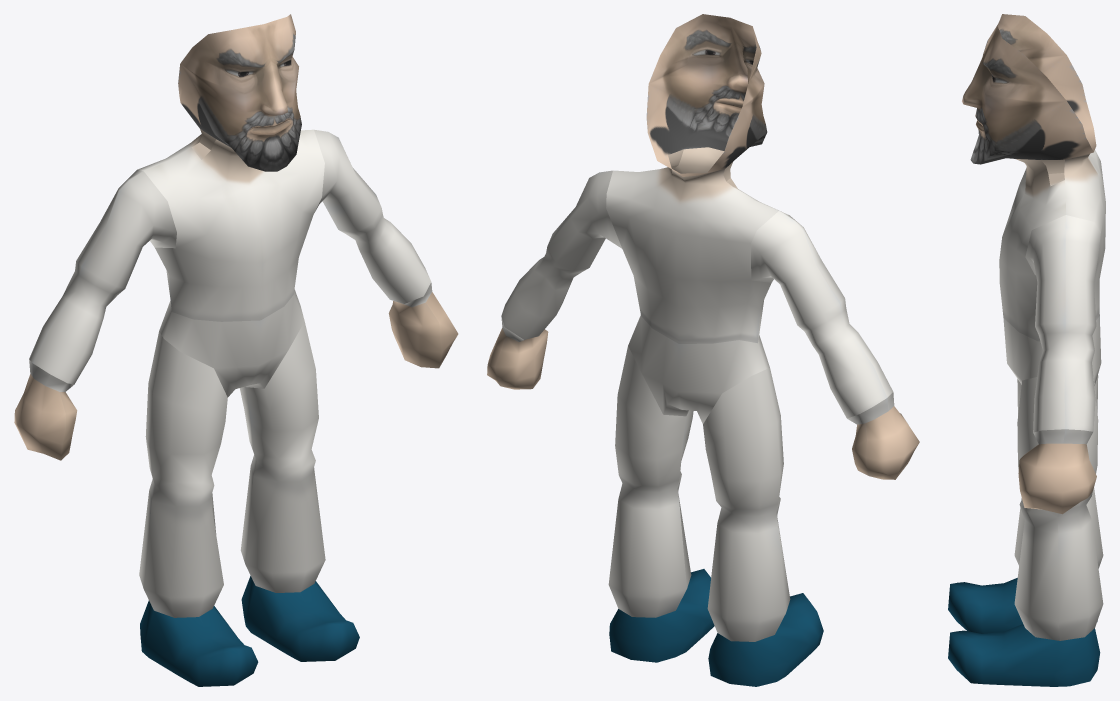
File: General_modelling.FBX
The picture shows the model from 3 angles, left to right: view 1: azimuth 30°, elevation 25°; view 2: azimuth 150°, elevation 25°; view 3: azimuth 270°, elevation 25°; orthographic projection. The views are drawn at different scales.
Visible parts, largest first — view 1: Box002; view 2: Box002; view 3: Box002.
Boxes of the visible parts, bbox=[...] form: Box002: bbox=[14, 14, 458, 686]; Box002: bbox=[487, 14, 919, 686]; Box002: bbox=[948, 14, 1105, 686].
Size of the model in its own units: 45.58 by 64.81 by 14.96.
Materials: 1 (1 with a texture image).
